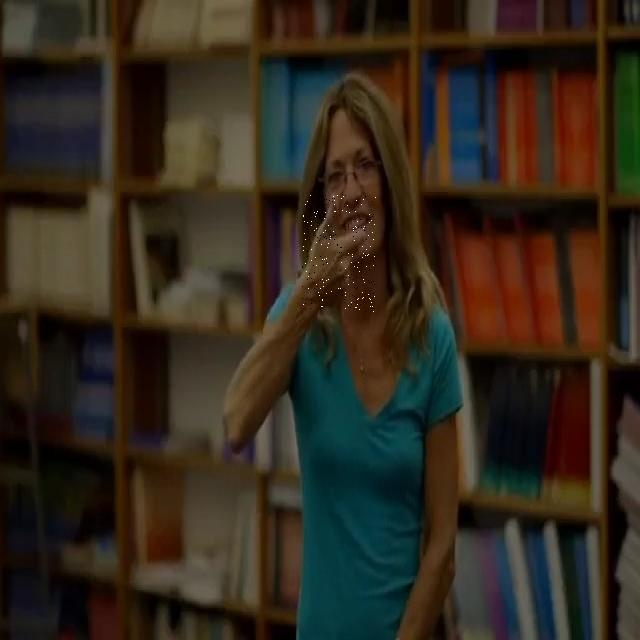pizza: (302, 195, 376, 312)
